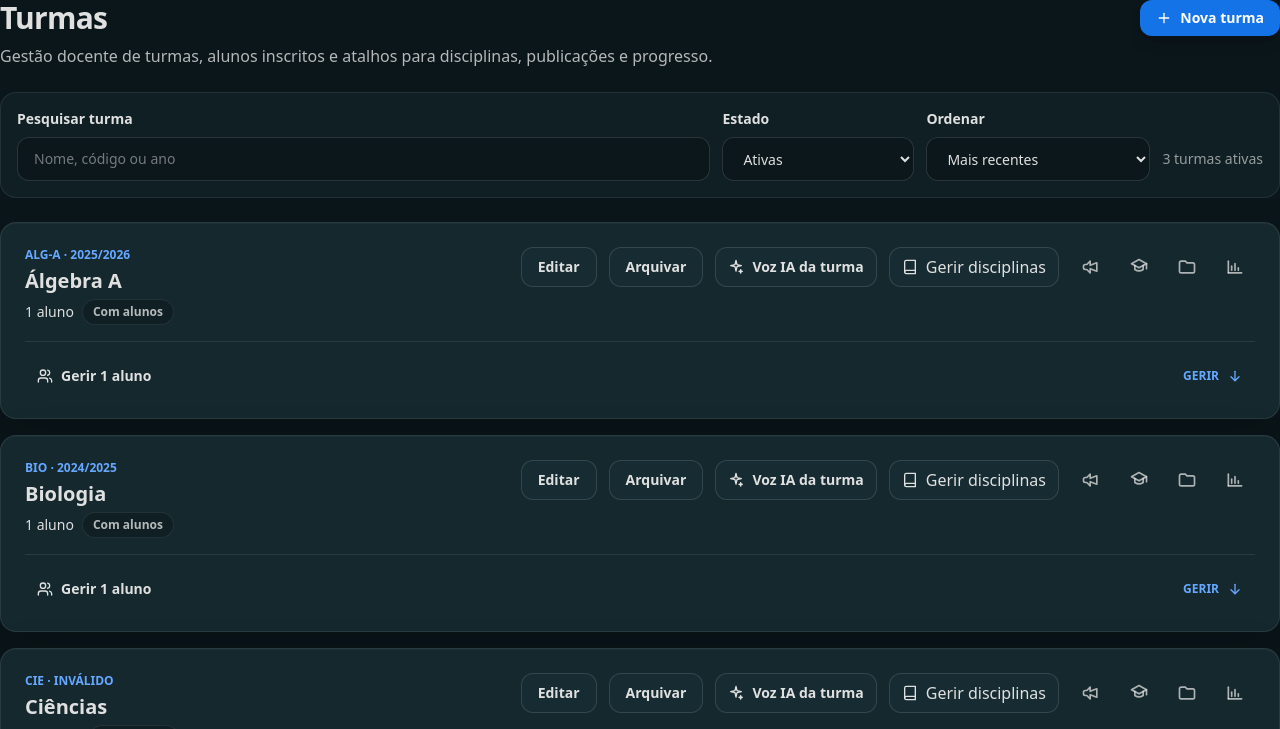
Test: TeacherClassesPage › edita a turma num painel acessível e fecha apenas após sucesso
This screenshot has width=1280, height=729.
Click the button "Editar" in the row of "2025/2026".
click(559, 267)  # box [521,247,597,287]
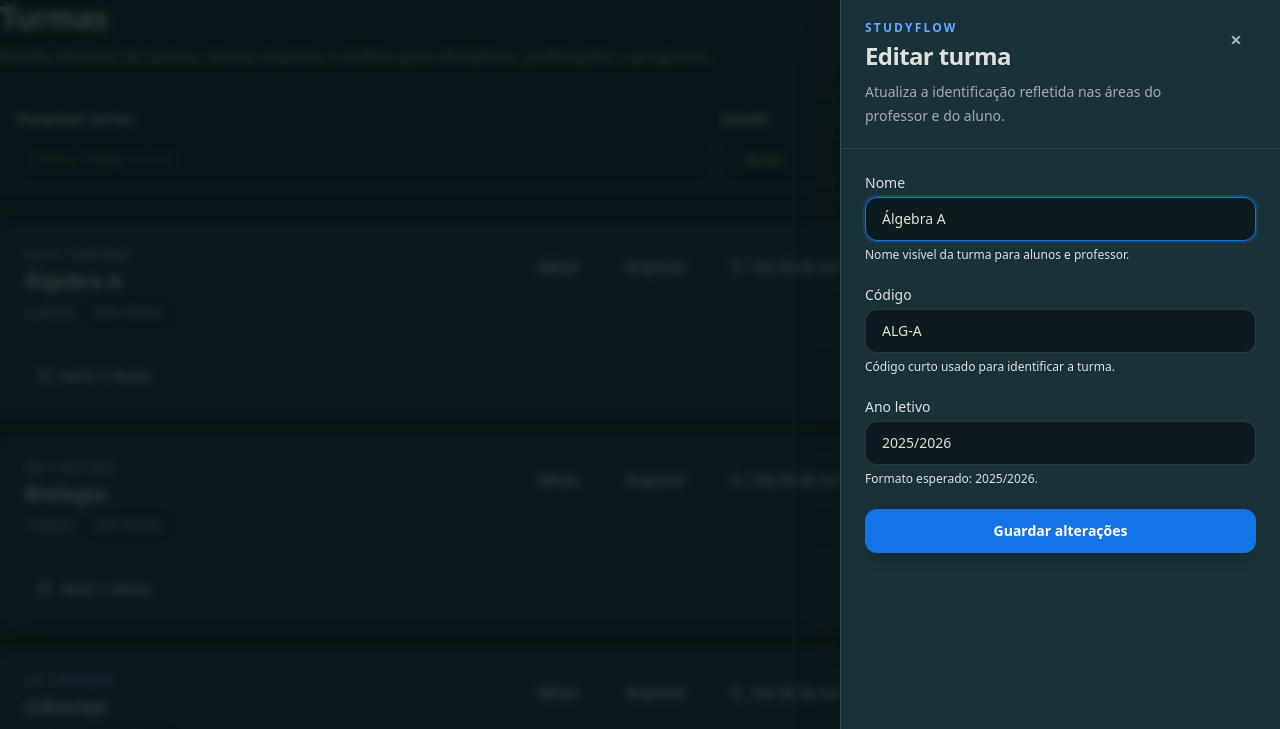
Now the field labelled "Nome" holds "Álgebra A"
Replace the text in the field labelled "Nome" with "Álgebra atualizada" at [1060, 219], box [865,197,1256,241]
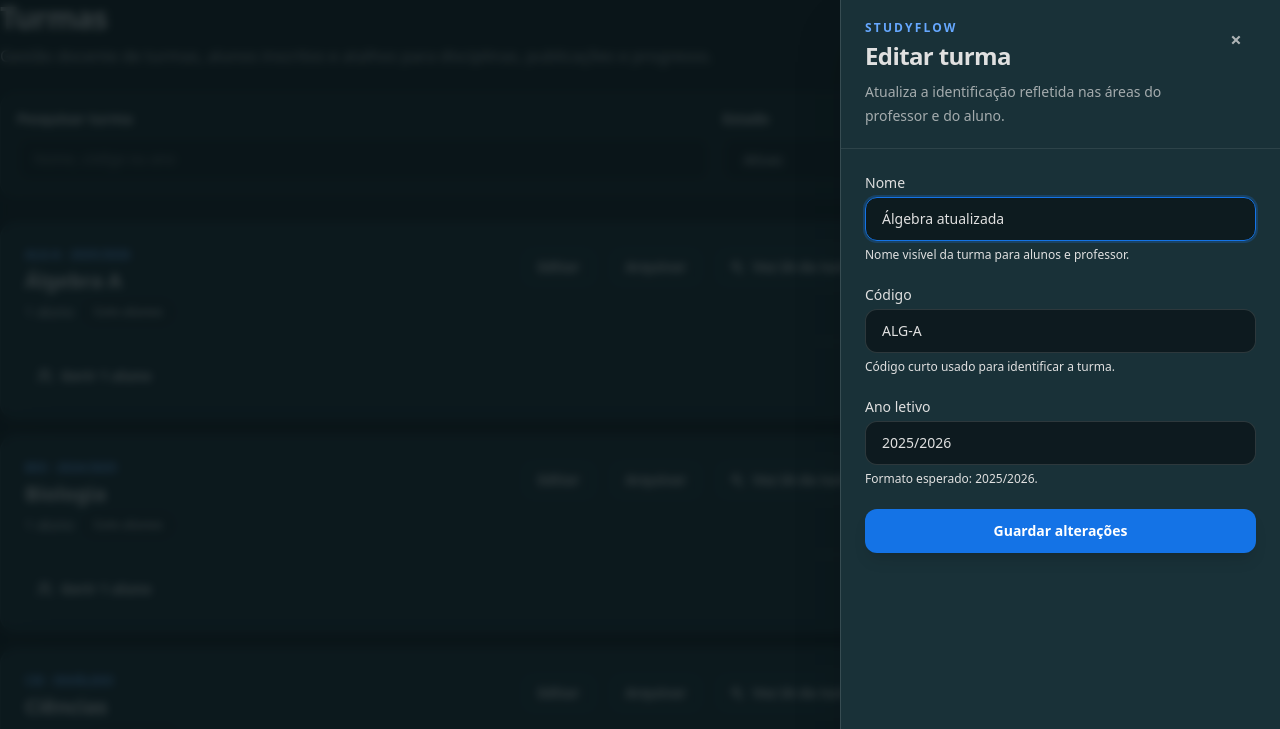
Replace the text in the field labelled "Código" with "ALG-N" at [1060, 331], box [865,309,1256,353]
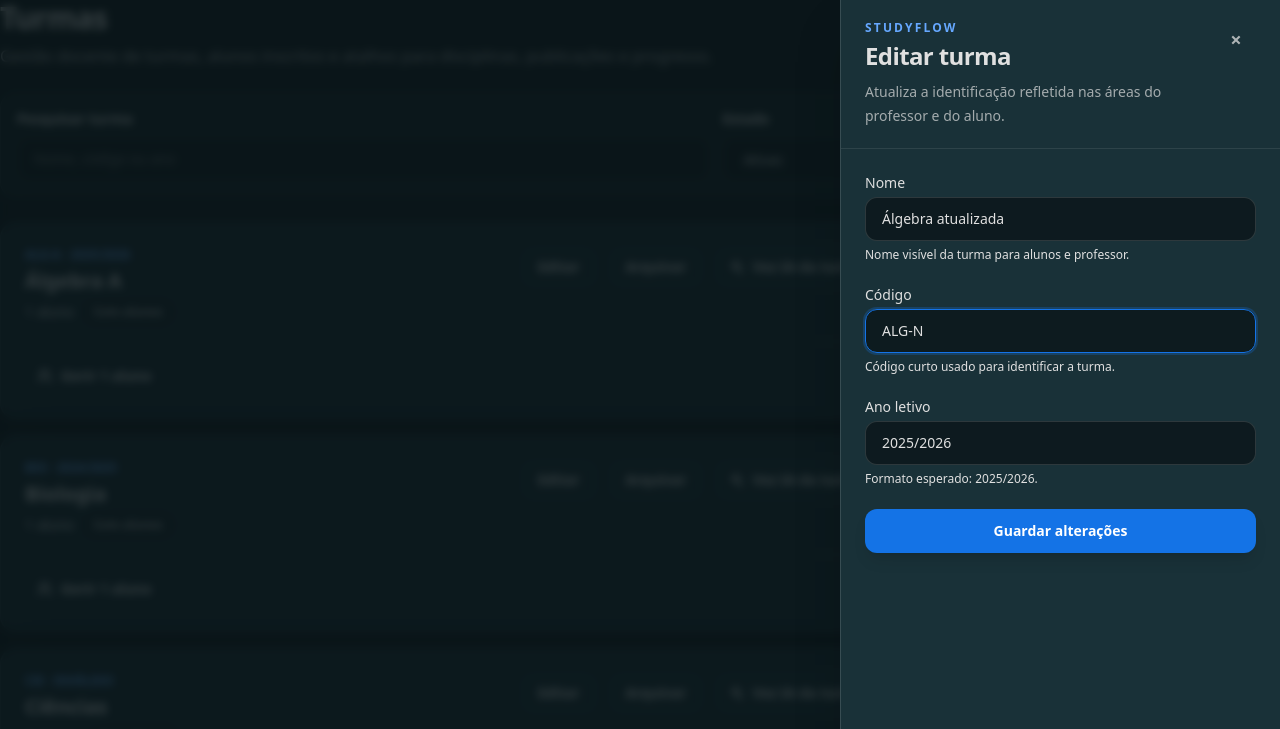
Click the button "Guardar alterações".
click(1060, 531)  # box [865,509,1256,553]
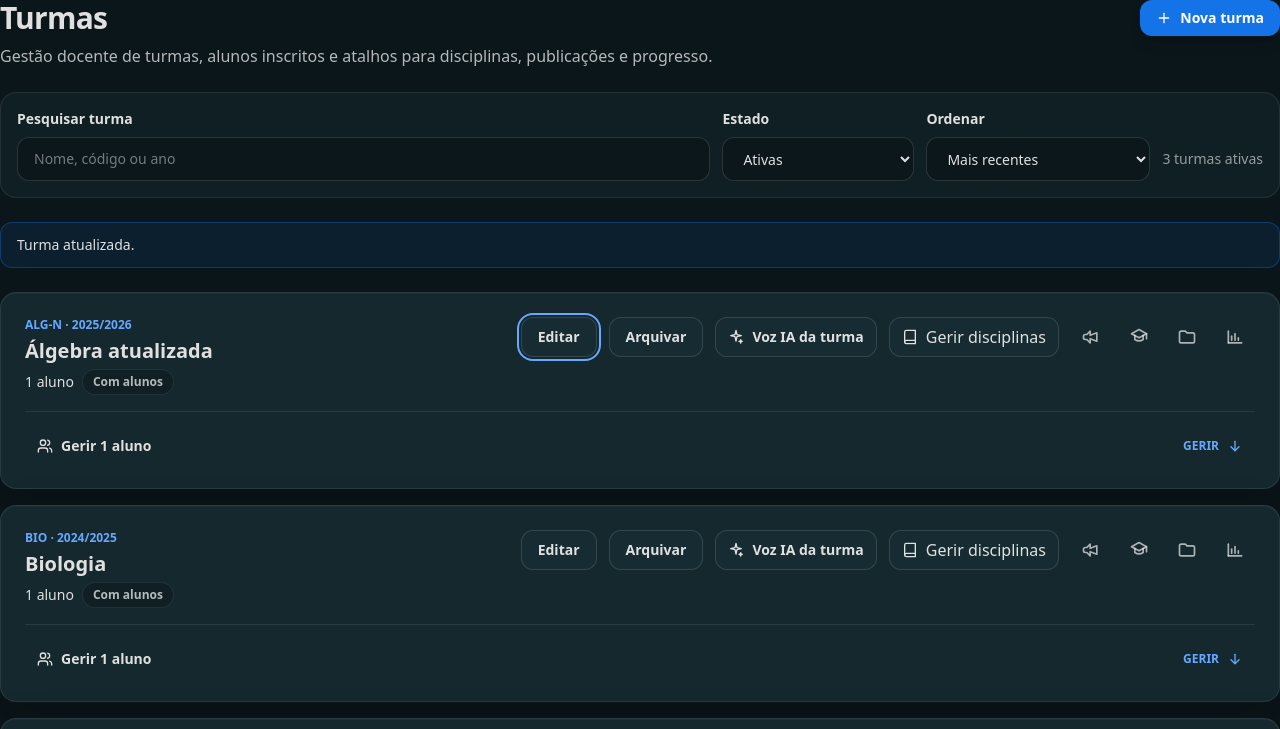
Now the heading "Editar turma" is gone
Now the message reads "Turma atualizada.", box [17,235,134,254]
